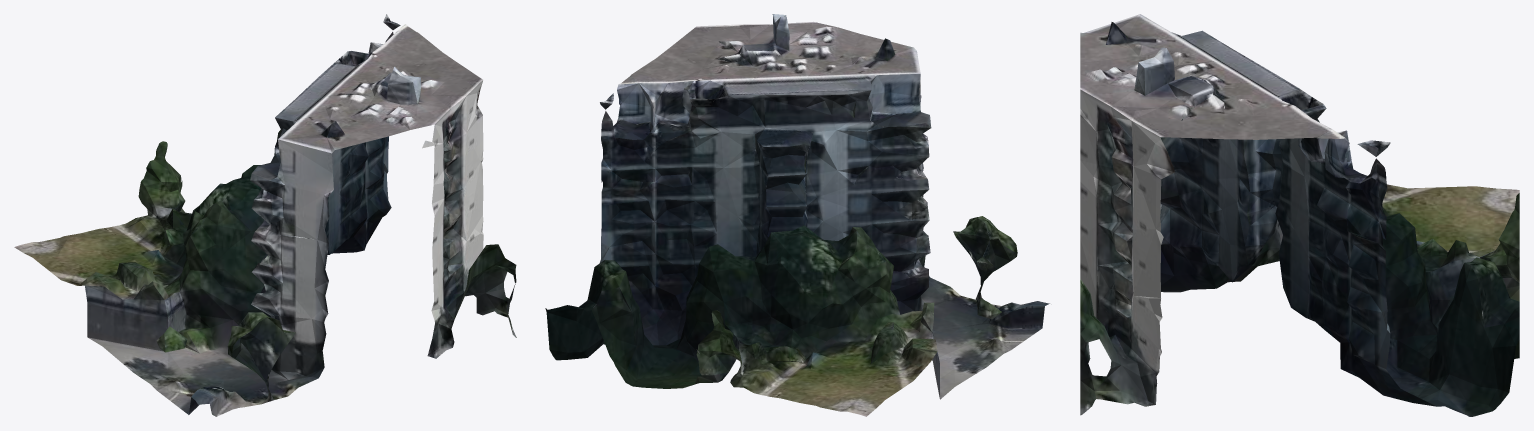
File: helsinki-0-0.glb
The picture shows the model from 3 angles, left to right: view 1: azimuth 30°, elevation 25°; view 2: azimuth 150°, elevation 25°; view 3: azimuth 270°, elevation 25°; orthographic projection. The views are drawn at different scales.
Bounding box in the file's own units: 31.5 × 25.72 × 31.5.
1 material, 1 textured.
